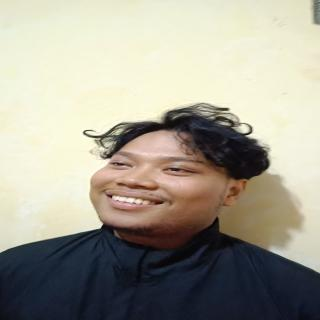Senang: (84, 122, 250, 239)
